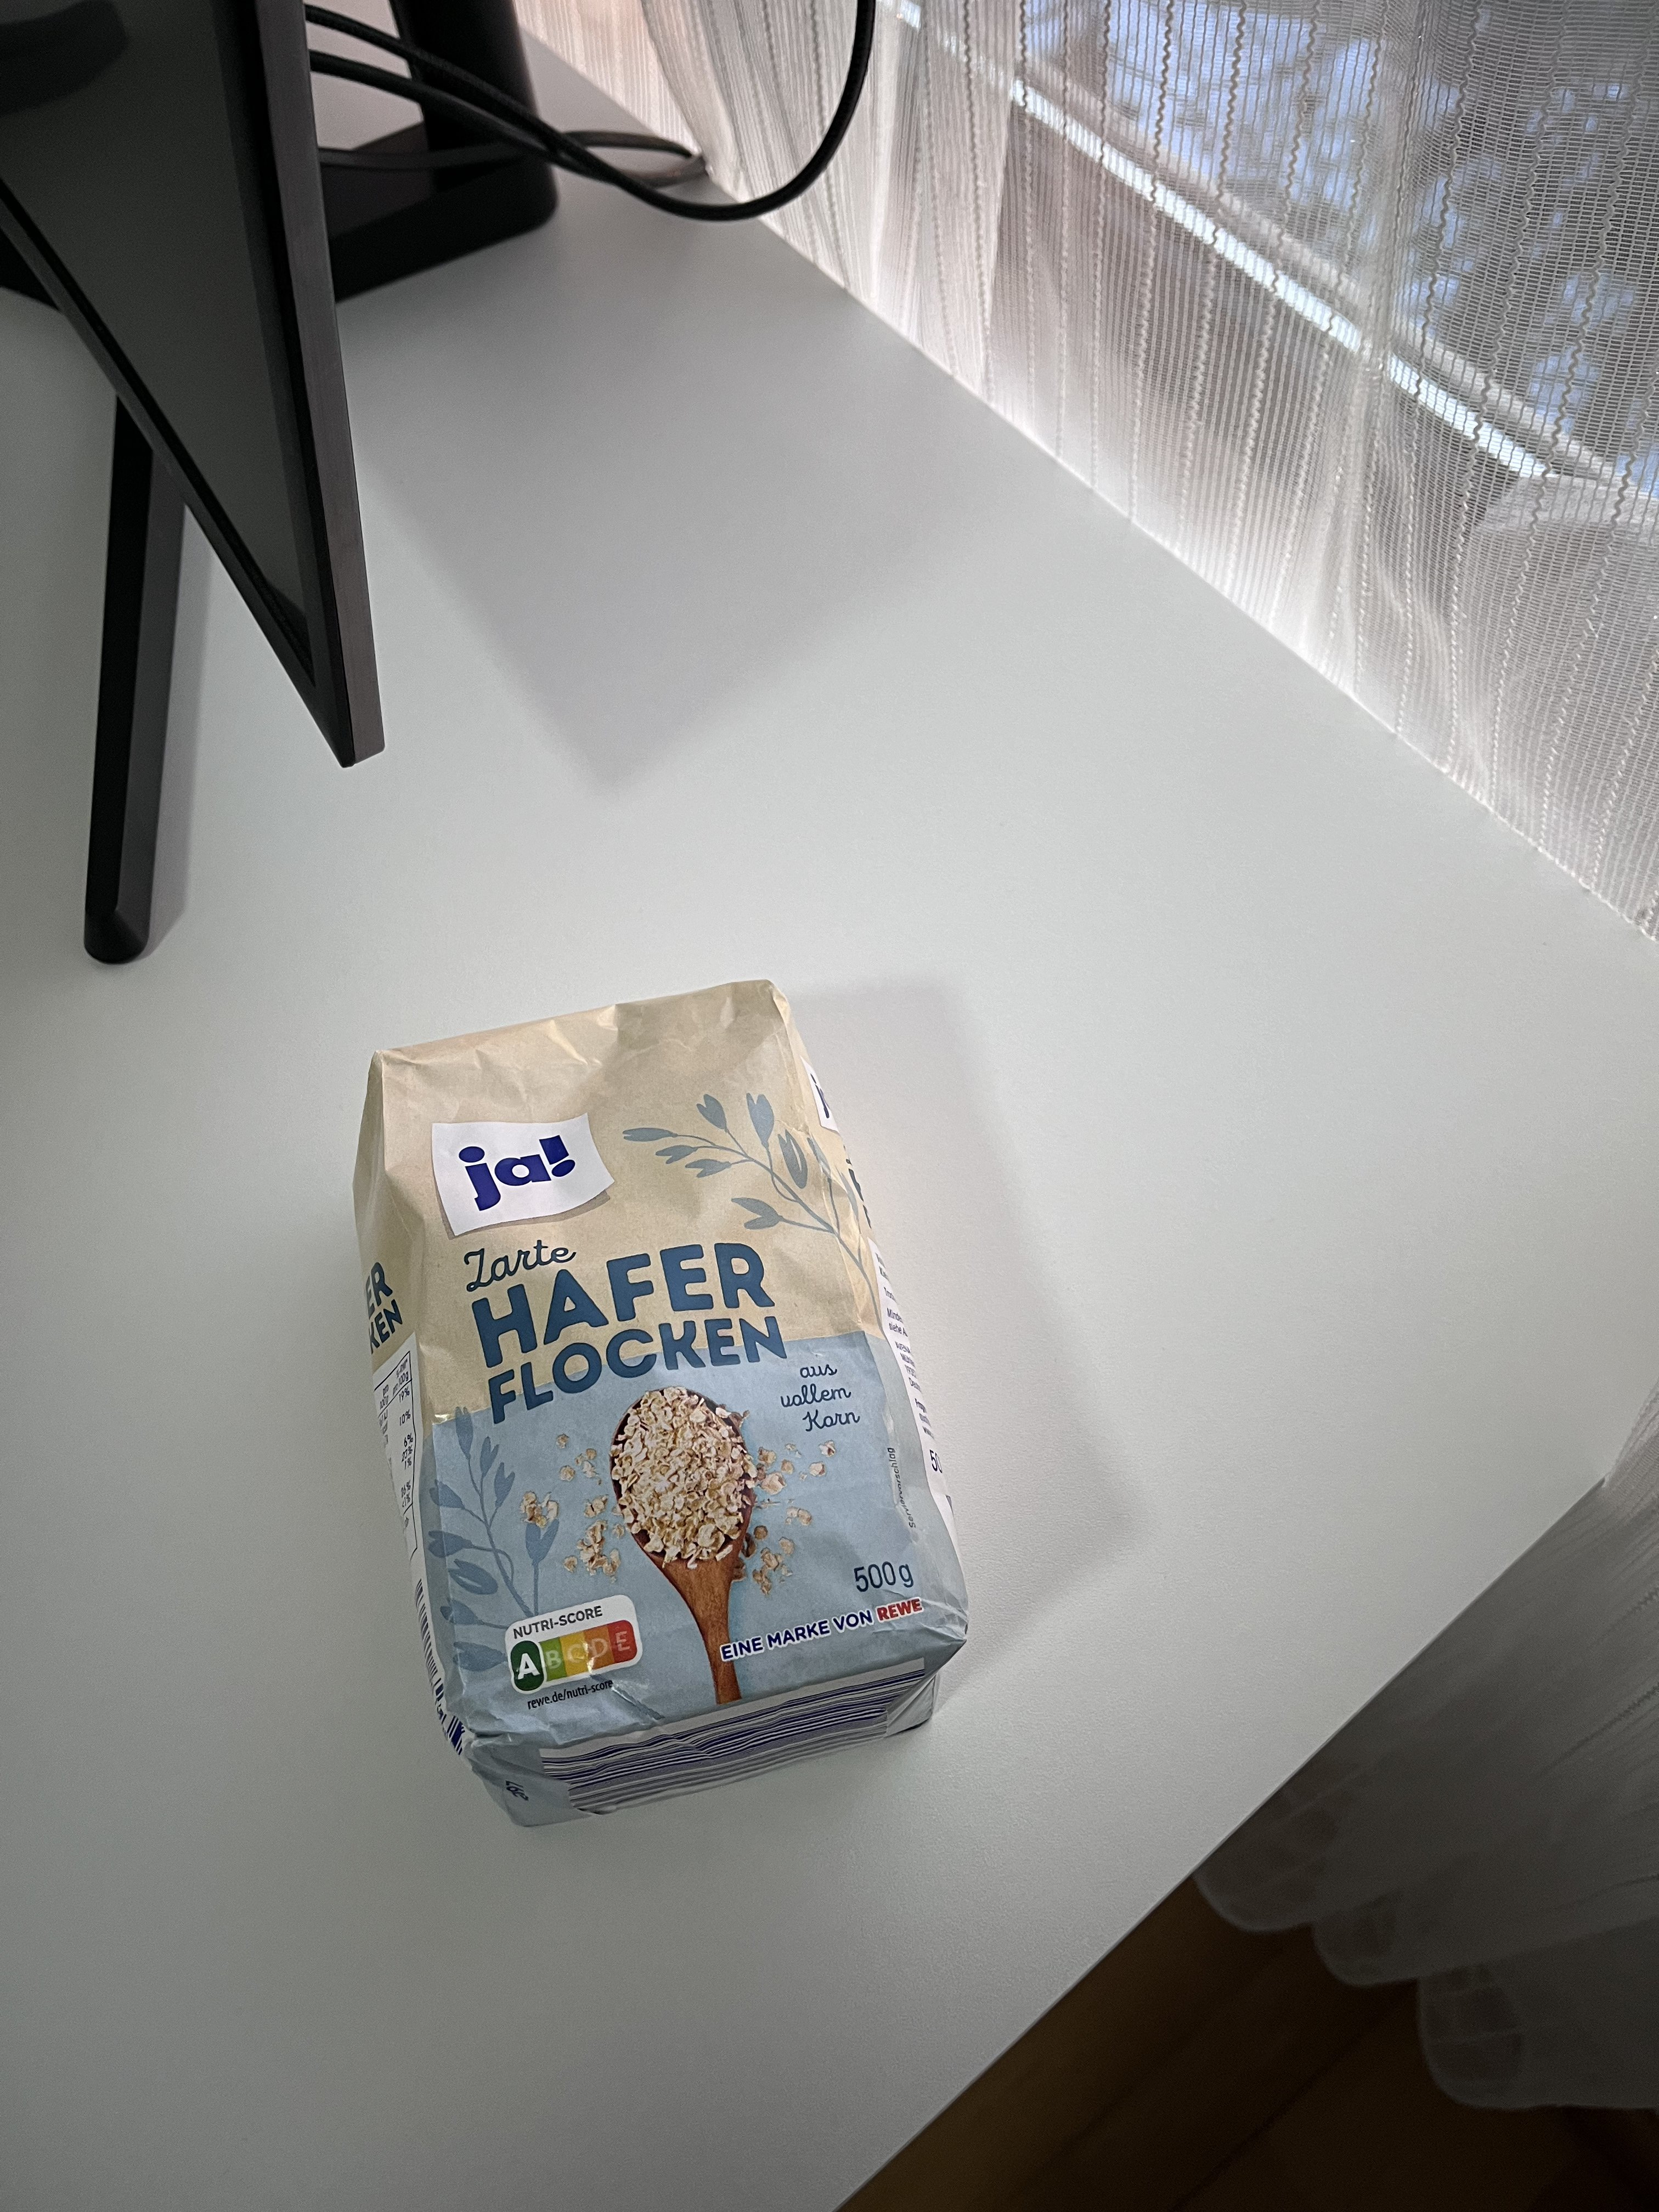haferflocken_ja: (361, 974, 972, 1827)
